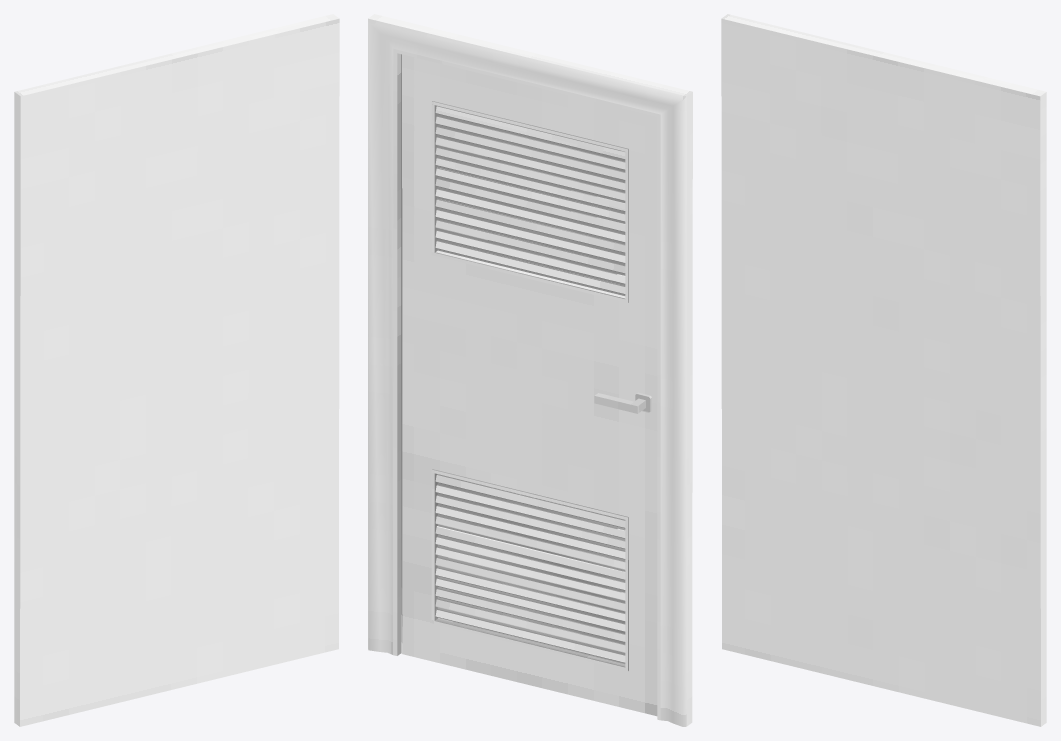
The model's file is DoorDoubleLouverSnapToWall.glb.
3 views of the same model, side by side, from view 1: azimuth 30°, elevation 25°; view 2: azimuth 150°, elevation 25°; view 3: azimuth 330°, elevation 25° (orthographic).
Visible parts, largest first — view 1: DoorDoubleLouverSnapToWall; view 2: DoorDoubleLouverSnapToWall; view 3: DoorDoubleLouverSnapToWall.
Boxes of the visible parts, x1,y1,x2,y2 form: DoorDoubleLouverSnapToWall: (14,14,339,726); DoorDoubleLouverSnapToWall: (368,14,692,726); DoorDoubleLouverSnapToWall: (721,14,1046,726).
Size of the model in its own units: 1.12 by 2.13 by 0.0835.
1 material, 1 textured.
